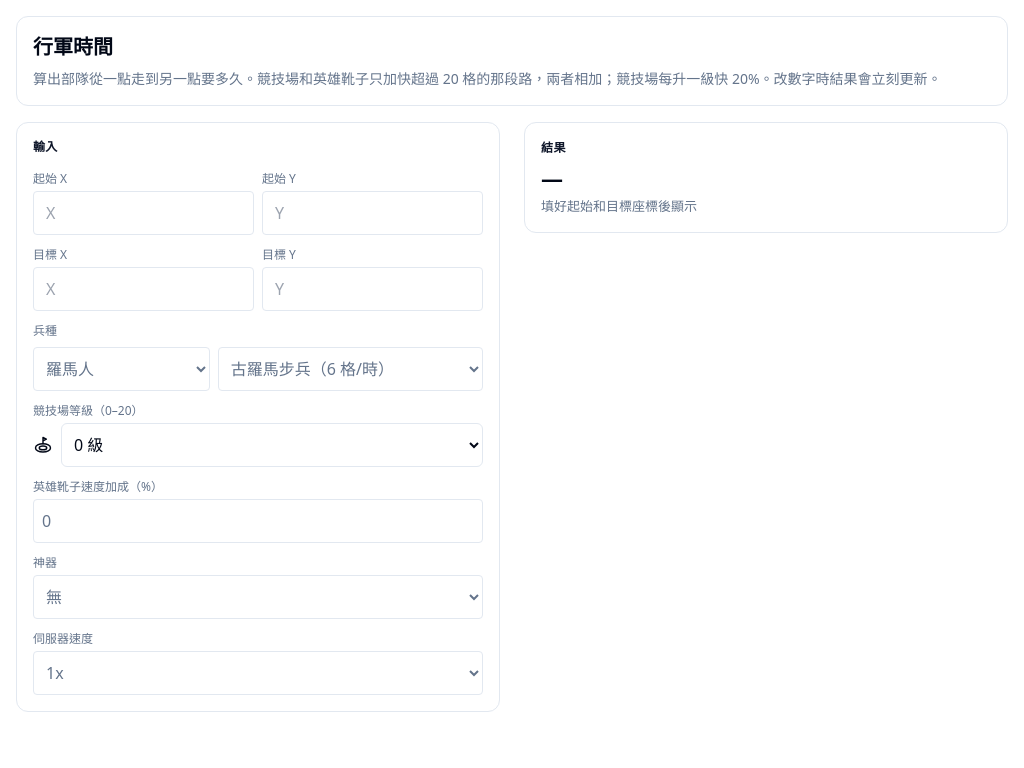
Test: 座標框：全站共用規則 › march time: no result until both start and target are filled; then -4 works
Expected: the text with test id "path-need-coords" reads "填好起始和目標座標後顯示", [541, 196, 697, 214]
Expected: the text with test id "calc-result-primary" reads "—", [541, 163, 563, 193]
In the field with test id "path-start-x": coordinates (144, 213) [33, 191, 254, 235], type "0"
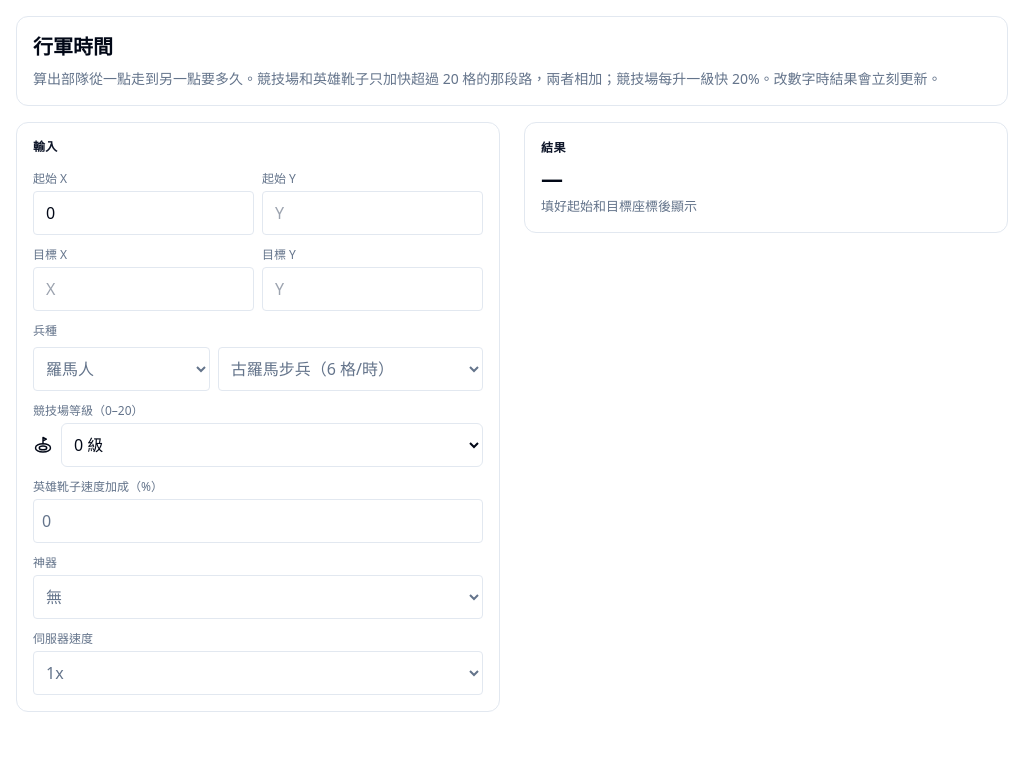
In the field with test id "path-start-y": coordinates (372, 213) [262, 191, 483, 235], type "0"
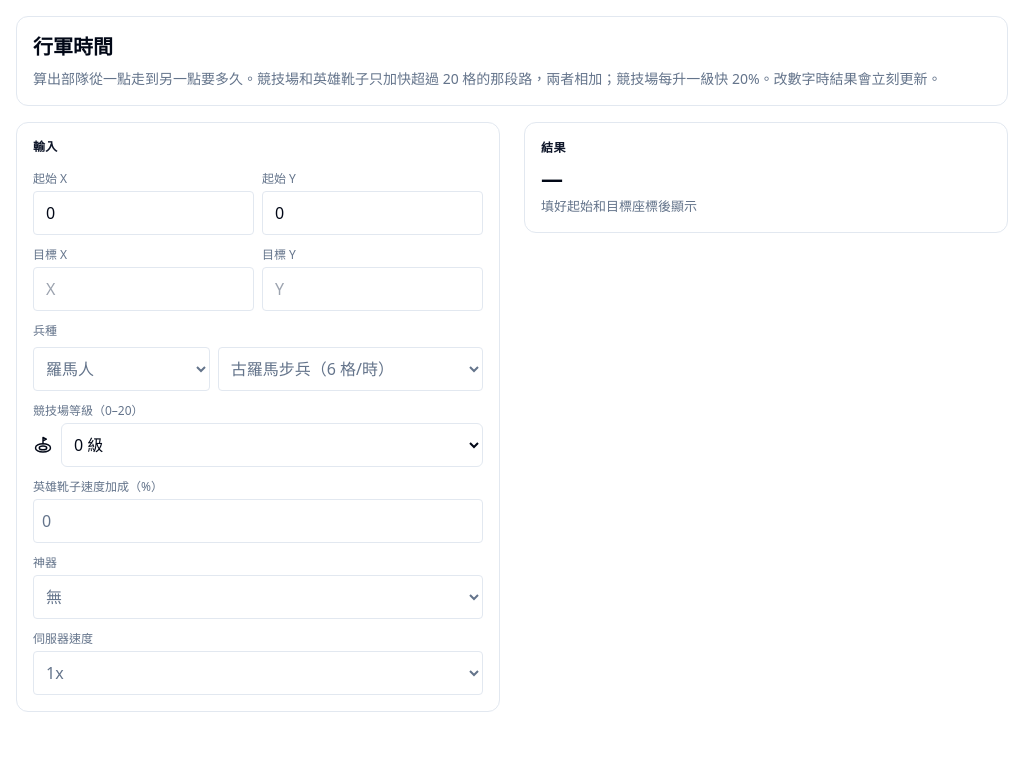
In the field with test id "path-target-x": coordinates (144, 289) [33, 267, 254, 311], type "3"
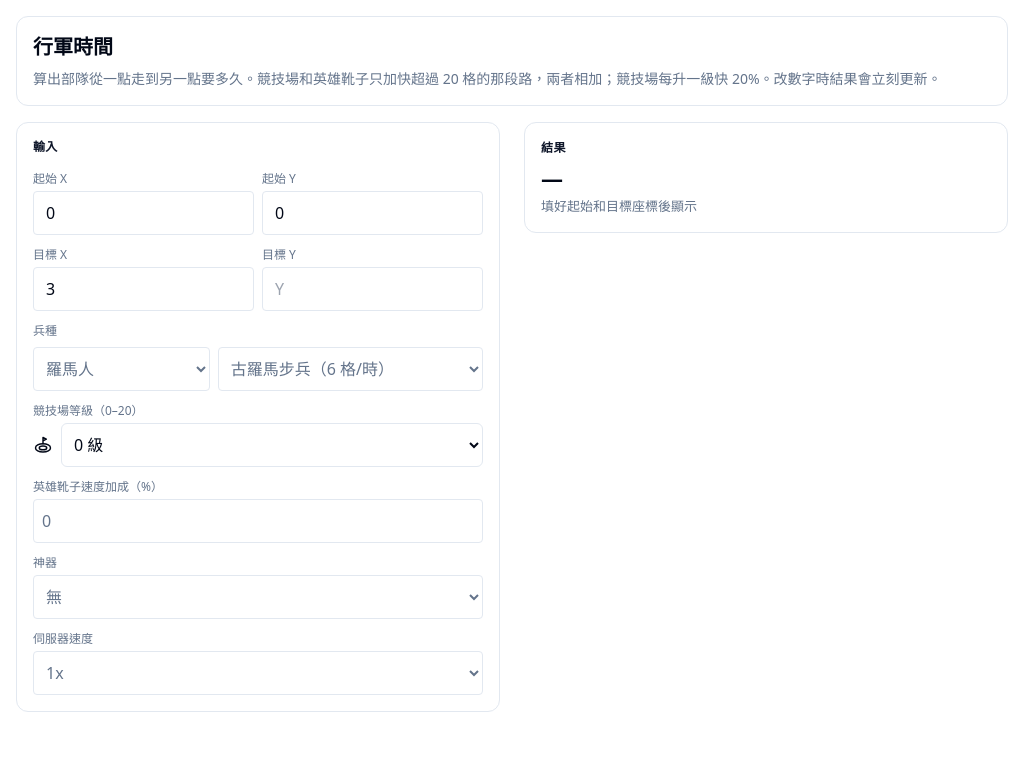
In the field with test id "path-target-y": coordinates (372, 289) [262, 267, 483, 311], type "-4"
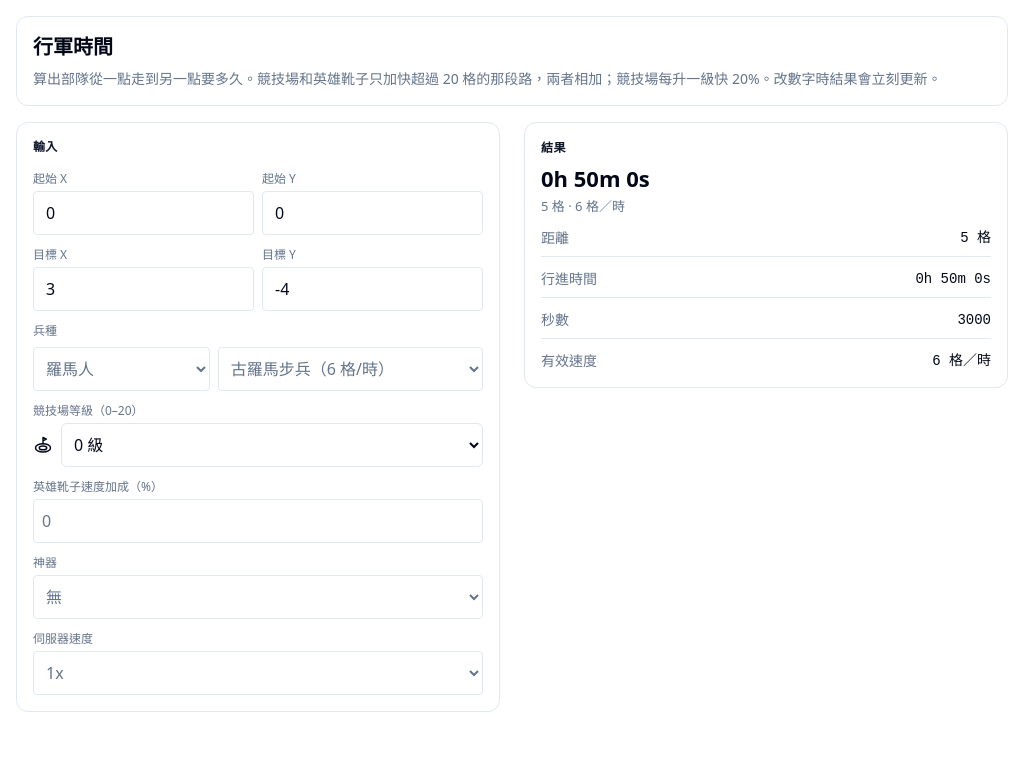
Expected: the text with test id "path-need-coords" is gone
Expected: the text with test id "calc-result-secondary" shows "5 格", [541, 196, 625, 214]
